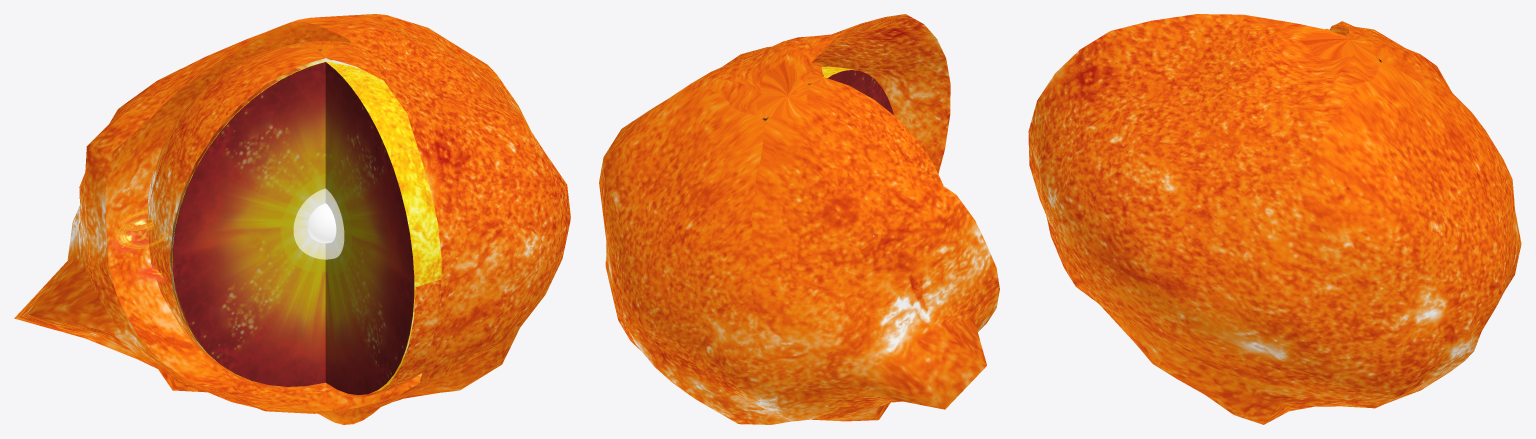
File: Sun1.glb
The picture shows the model from 3 angles, left to right: view 1: azimuth 30°, elevation 25°; view 2: azimuth 150°, elevation 25°; view 3: azimuth 270°, elevation 25°; orthographic projection. The views are drawn at different scales.
Visible parts, largest first — view 1: Sphere.001, Círculo.001, Círculo.003, Sphere, Cube.001, Cube.004, Cube.002, Cube.003; view 2: Sphere.001, Sphere, Círculo.003; view 3: Sphere.001.
Part boxes in pixels (x1=…): Sphere.001: x1=14, y1=14, x2=570, y2=424; Círculo.001: x1=172, y1=62, x2=382, y2=386; Círculo.003: x1=244, y1=62, x2=414, y2=395; Sphere: x1=146, y1=40, x2=441, y2=397; Cube.001: x1=172, y1=61, x2=441, y2=392; Cube.004: x1=293, y1=188, x2=344, y2=259; Cube.002: x1=170, y1=58, x2=360, y2=387; Cube.003: x1=308, y1=203, x2=335, y2=242; Sphere.001: x1=599, y1=14, x2=999, y2=424; Sphere: x1=787, y1=62, x2=943, y2=185; Círculo.003: x1=827, y1=70, x2=893, y2=114; Sphere.001: x1=1028, y1=14, x2=1521, y2=424.
Bounding box in the file's own units: 1.94 × 1.58 × 1.92.
9 materials, 9 textured.
